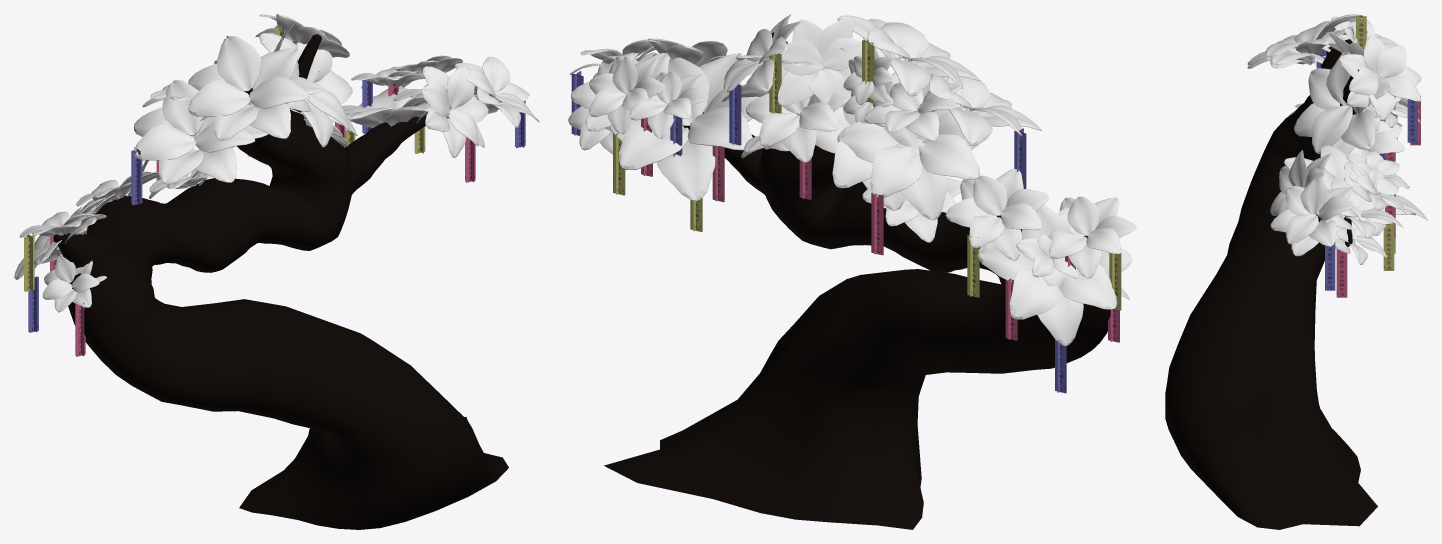
Rendered from bonzai_tree_v3.FBX.
3 renders of one model, left to right at view 1: azimuth 30°, elevation 25°; view 2: azimuth 150°, elevation 25°; view 3: azimuth 270°, elevation 25°, orthographic. The views are drawn at different scales.
Visible parts, largest first — view 1: tronc_bonzai002, Plane128, voeux_bonzai_violets001, voeux_bonzai_roses001, voeux_bonzai_jaunes001; view 2: Plane128, tronc_bonzai002, voeux_bonzai_jaunes001, voeux_bonzai_roses001, voeux_bonzai_violets001; view 3: tronc_bonzai002, Plane128, voeux_bonzai_violets001, voeux_bonzai_roses001, voeux_bonzai_jaunes001.
Boxes of the visible parts, x1,y1,x2,y2 form: tronc_bonzai002: (53, 34, 508, 529); Plane128: (14, 14, 539, 312); voeux_bonzai_violets001: (28, 41, 525, 332); voeux_bonzai_roses001: (50, 83, 475, 356); voeux_bonzai_jaunes001: (24, 25, 425, 291); Plane128: (568, 14, 1136, 345); tronc_bonzai002: (604, 32, 1110, 529); voeux_bonzai_jaunes001: (613, 39, 1121, 310); voeux_bonzai_roses001: (641, 118, 1119, 342); voeux_bonzai_violets001: (571, 71, 1066, 393); tronc_bonzai002: (1165, 39, 1380, 529); Plane128: (1247, 14, 1427, 264); voeux_bonzai_violets001: (1316, 50, 1417, 290); voeux_bonzai_roses001: (1336, 96, 1420, 297); voeux_bonzai_jaunes001: (1356, 15, 1397, 270).
Bounding box in the file's own units: 370 × 323 × 183.
4 materials, 3 textured.
